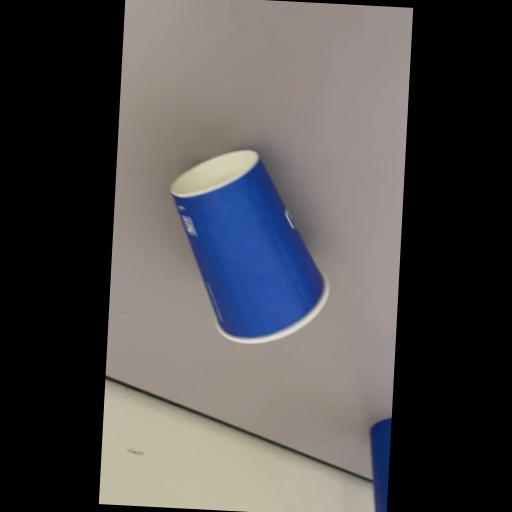lp_paper_cup: (154, 144, 342, 352)
